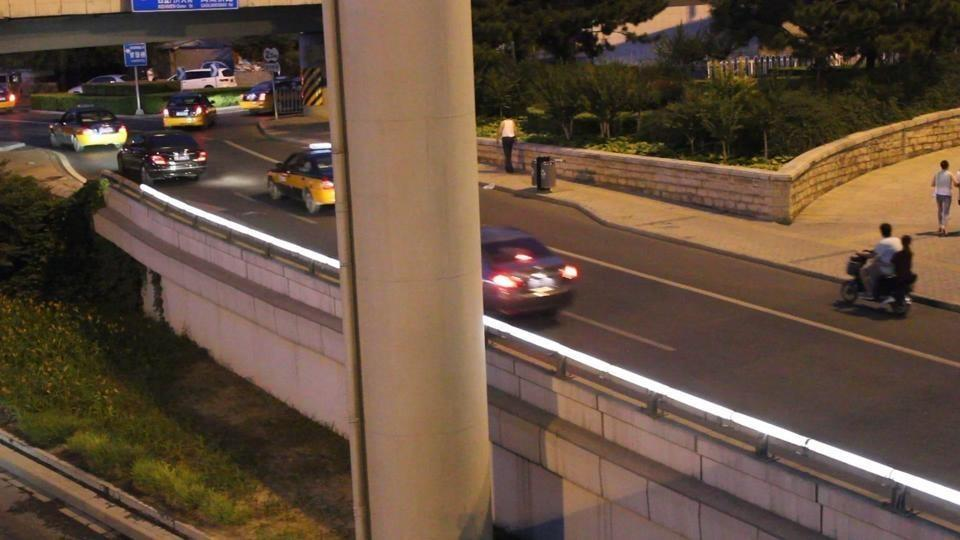car: (480, 224, 583, 321), (115, 131, 208, 184), (266, 143, 335, 214), (47, 104, 128, 153), (162, 91, 216, 128), (169, 67, 223, 93), (238, 80, 278, 112), (0, 76, 17, 113)
